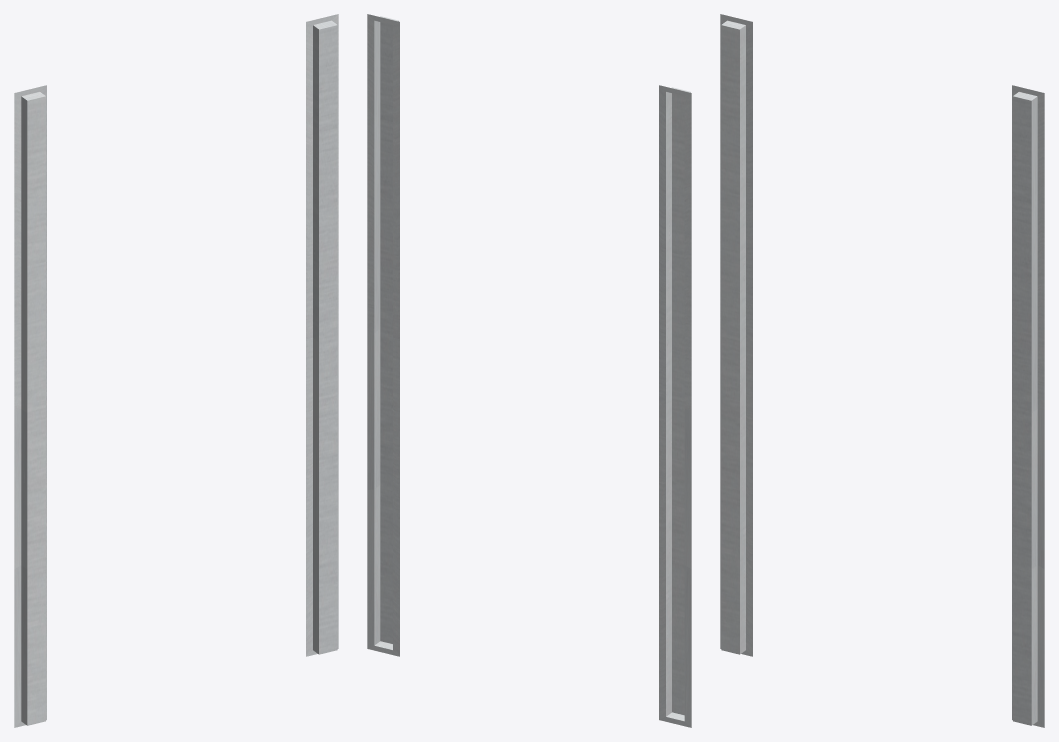
Rendered from LabMetalBeam.glb.
3 renders of one model, left to right at view 1: azimuth 30°, elevation 25°; view 2: azimuth 150°, elevation 25°; view 3: azimuth 330°, elevation 25°, orthographic.
Visible parts, largest first — view 1: Cube.001; view 2: Cube.001; view 3: Cube.001.
Part boxes in pixels (x1=…): Cube.001: x1=14, y1=14, x2=338, y2=727; Cube.001: x1=367, y1=14, x2=691, y2=727; Cube.001: x1=720, y1=14, x2=1044, y2=727.
Size of the model in its own units: 13.79 by 25.81 by 0.4523.
Materials: 1 (1 with a texture image).
